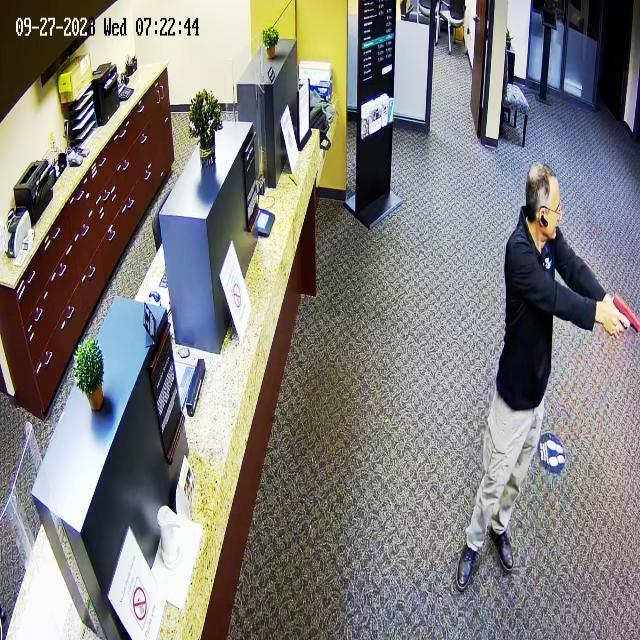Gun: (595, 285, 640, 357)
